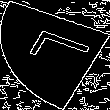L_SE: (16, 31, 94, 79)
